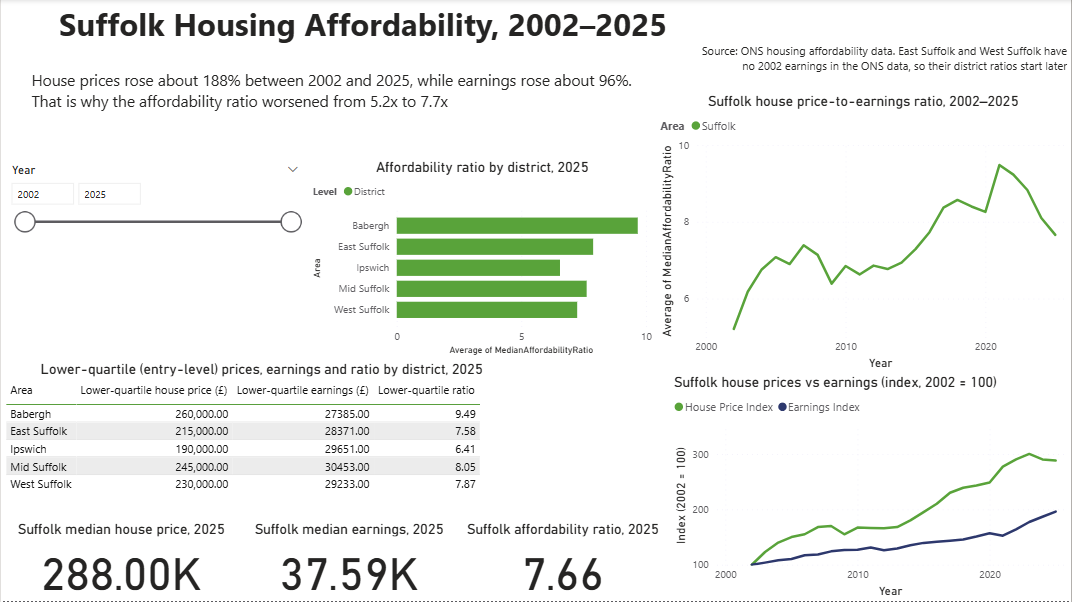

The page's visual inventory and layout, read from the dashboard file:
{"tool":"powerbi","page":{"name":"Page 1","canvas":[1280,720],"ordinal":0},"visuals":[{"type":"slicer","fields":{"Values":["Suffolk Data.Year"]},"box":[0,192,368,256],"z":0},{"type":"lineChart","title":"Suffolk house price-to-earnings ratio, 2002–2025","fields":{"Category":["Suffolk Data.Year"],"Y":["Avg(Suffolk Data.MedianAffordabilityRatio)"],"Series":["Suffolk Data.Area"]},"box":[784,112,496,336],"z":1000},{"type":"clusteredBarChart","title":"Affordability ratio by district, 2025","fields":{"Category":["Suffolk Data.Area"],"Y":["Avg(Suffolk Data.MedianAffordabilityRatio)"],"Series":["Suffolk Data.Level"]},"box":[368,192,416,240],"z":2000},{"type":"card","title":"Suffolk median house price, 2025","fields":{"Values":["Avg(Suffolk Data.MedianHousePrice)"]},"box":[0,624,288,96],"z":3000},{"type":"card","title":"Suffolk median earnings, 2025","fields":{"Values":["Avg(Suffolk Data.MedianEarnings)"]},"box":[288,624,256,96],"z":4000},{"type":"card","title":"Suffolk affordability ratio, 2025","fields":{"Values":["Avg(Suffolk Data.MedianAffordabilityRatio)"]},"box":[544,624,256,96],"z":5000},{"type":"tableEx","title":"Lower-quartile (entry-level) prices, earnings and ratio by district, 2025","fields":{"Values":["Suffolk Data.Area","Avg(Suffolk Data.LowerQuartileHousePrice)","Avg(Suffolk Data.LowerQuartileEarnings)","Avg(Suffolk Data.LowerQuartileAffordabilityRatio)"]},"box":[0,432,624,176],"z":6000},{"type":"textbox","box":[16,0,304,150],"z":7000},{"type":"textbox","box":[64,0,752,64],"z":8000},{"type":"textbox","box":[816,32,464,48],"z":9000},{"type":"lineChart","title":"Suffolk house prices vs earnings (index, 2002 = 100)","fields":{"Category":["Suffolk Data.Year"],"Y":["Suffolk Data.House Price Index","Suffolk Data.Earnings Index"]},"box":[800,448,480,272],"z":10000},{"type":"textbox","box":[32,80,752,64],"z":11000},{"type":"textbox","box":[816,48,464,48],"z":12000}]}

Visuals, with their boxes in screenshot pixels (x1, y1, x2, y2), scaled from the page's 1280x720 canvas onto the 1072x602 screenshot:
slicer - Suffolk Data.Year: <bbox>0, 161, 308, 375</bbox>
"Suffolk house price-to-earnings ratio, 2002–2025" lineChart: <bbox>657, 94, 1071, 375</bbox>
"Affordability ratio by district, 2025" clusteredBarChart: <bbox>308, 161, 657, 361</bbox>
"Suffolk median house price, 2025" card: <bbox>0, 522, 241, 601</bbox>
"Suffolk median earnings, 2025" card: <bbox>241, 522, 456, 601</bbox>
"Suffolk affordability ratio, 2025" card: <bbox>456, 522, 670, 601</bbox>
"Lower-quartile (entry-level) prices, earnings and ratio by district, 2025" tableEx: <bbox>0, 361, 523, 508</bbox>
textbox: <bbox>13, 0, 268, 125</bbox>
textbox: <bbox>54, 0, 683, 54</bbox>
textbox: <bbox>683, 27, 1071, 67</bbox>
"Suffolk house prices vs earnings (index, 2002 = 100)" lineChart: <bbox>670, 375, 1071, 601</bbox>
textbox: <bbox>27, 67, 657, 120</bbox>
textbox: <bbox>683, 40, 1071, 80</bbox>
